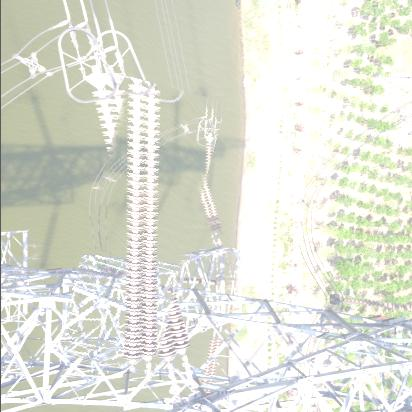insulator: (74, 81, 210, 374), (182, 127, 224, 238)
